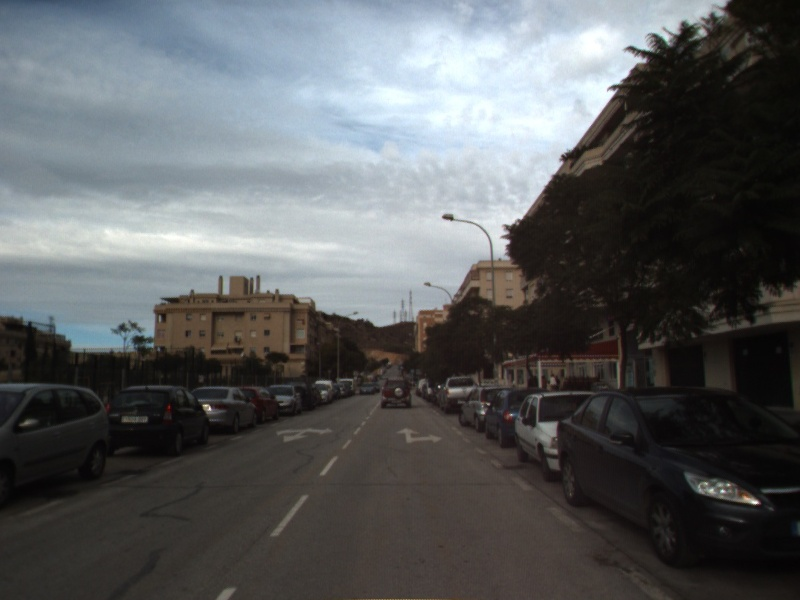STRAIGHT_RIGHT: (394, 426, 444, 445)
